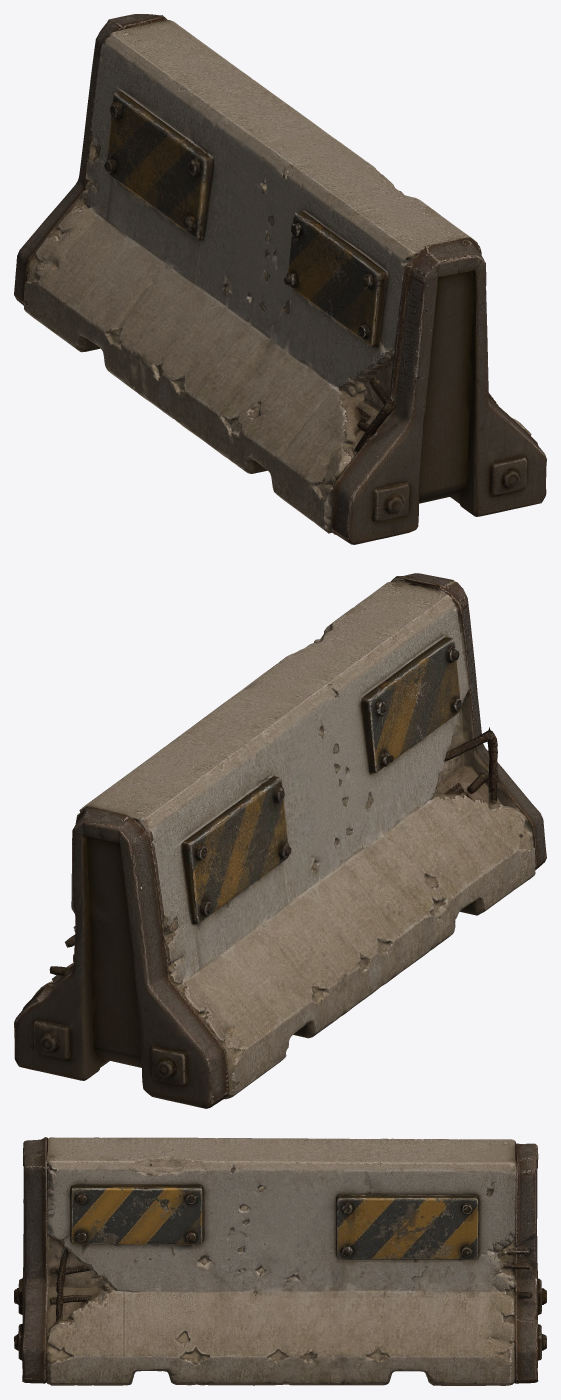
The model's file is tripo_convert_32e06bf2-4d01-4104-881c-f5110f7c8711.fbx.
3 views of the same model, one above another, from view 1: azimuth 30°, elevation 25°; view 2: azimuth 150°, elevation 25°; view 3: azimuth 270°, elevation 25° (orthographic). The views are drawn at different scales.
Visible parts, largest first — view 1: tripo_node_32e06bf2; view 2: tripo_node_32e06bf2; view 3: tripo_node_32e06bf2.
Part boxes in pixels (x1,y1,x2,y2): tripo_node_32e06bf2: (14,14,546,544); tripo_node_32e06bf2: (14,573,546,1108); tripo_node_32e06bf2: (14,1137,546,1385).
Size of the model in its own units: 0.3478 by 0.4226 by 0.9776.
1 material, 1 textured.
